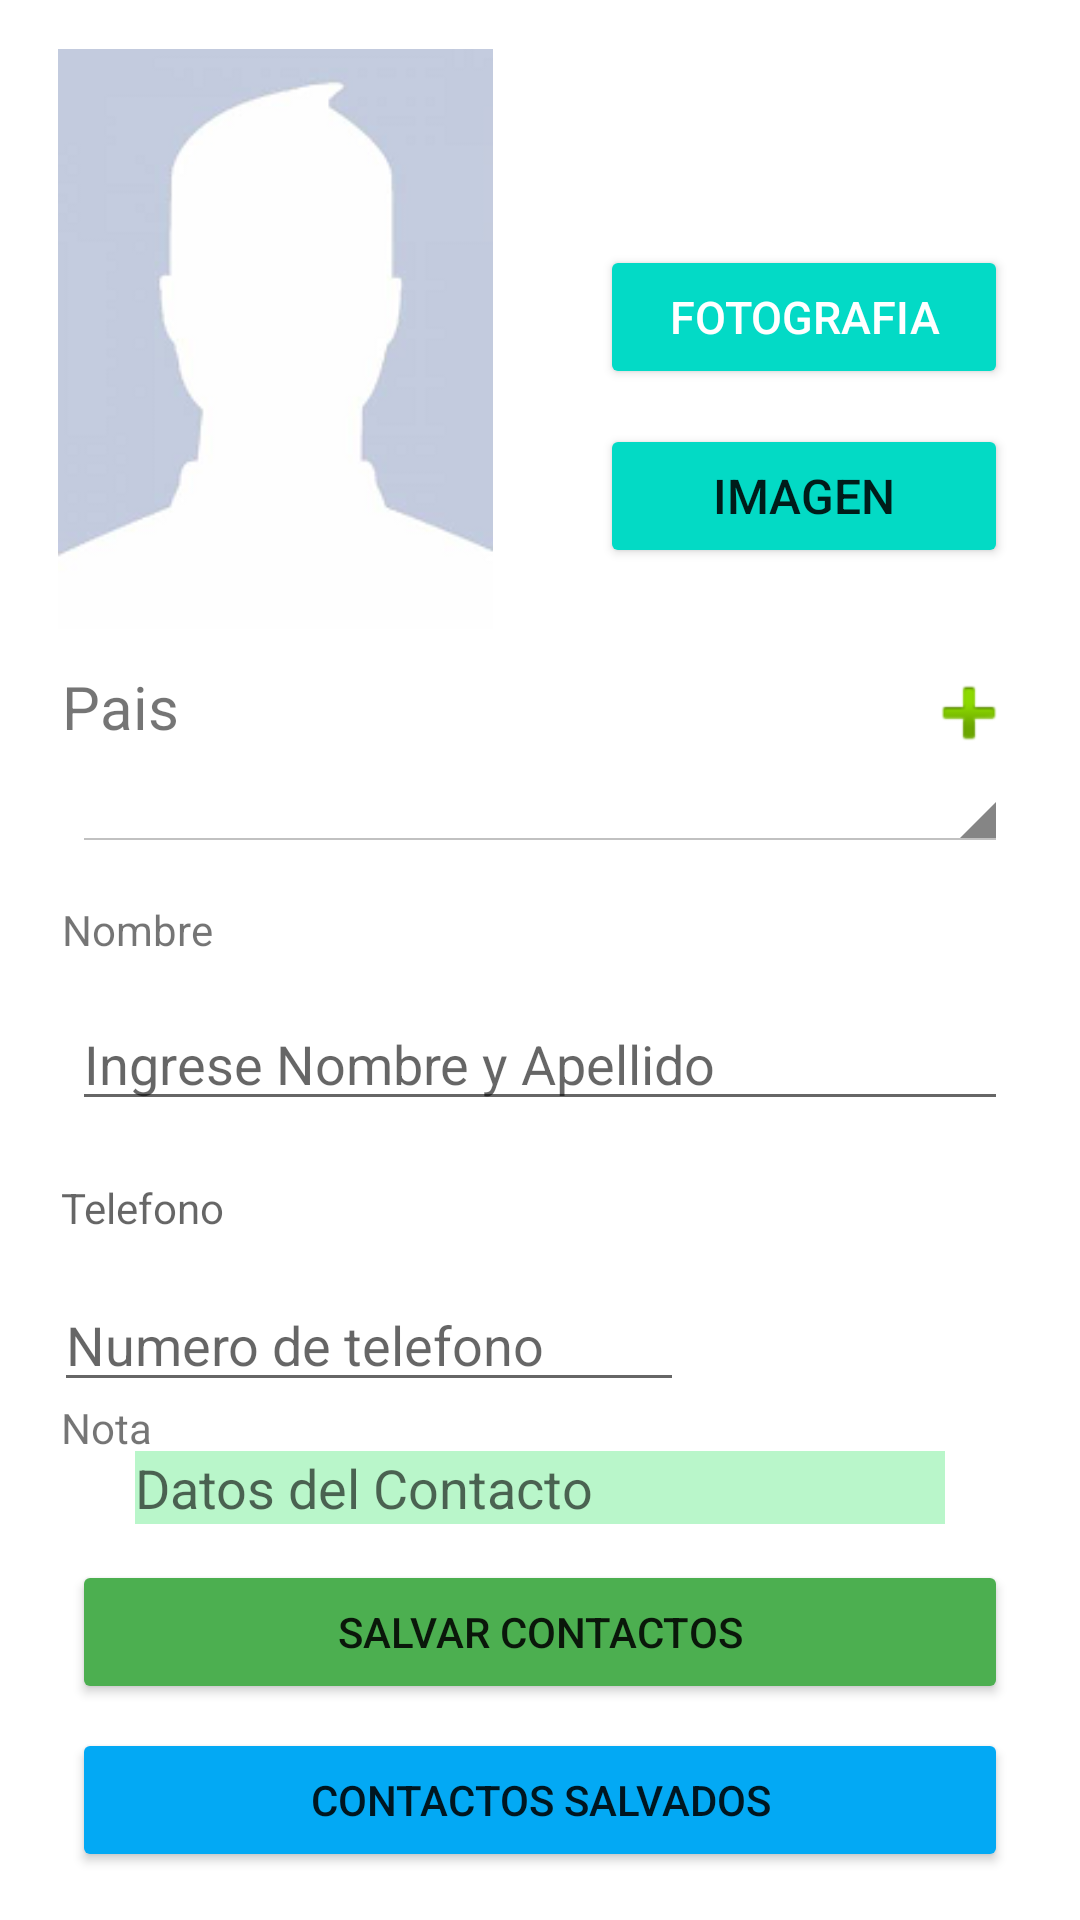

Locate icon controls on the screen. Image size 1080w x 1920h, boxes as (x1, y1, x2, y2).
add: (942, 686, 996, 740)
